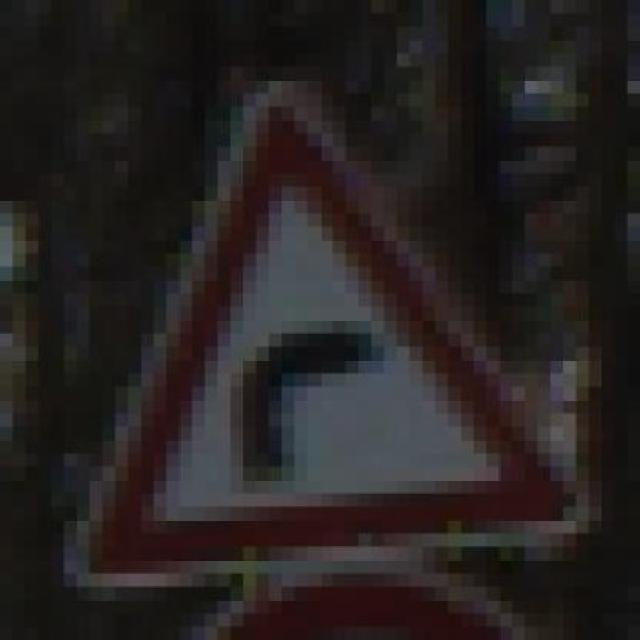Dangerous Rright Curve Ahead: (39, 79, 602, 587)
